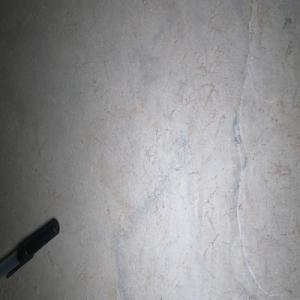Pen: (0, 218, 59, 278)
